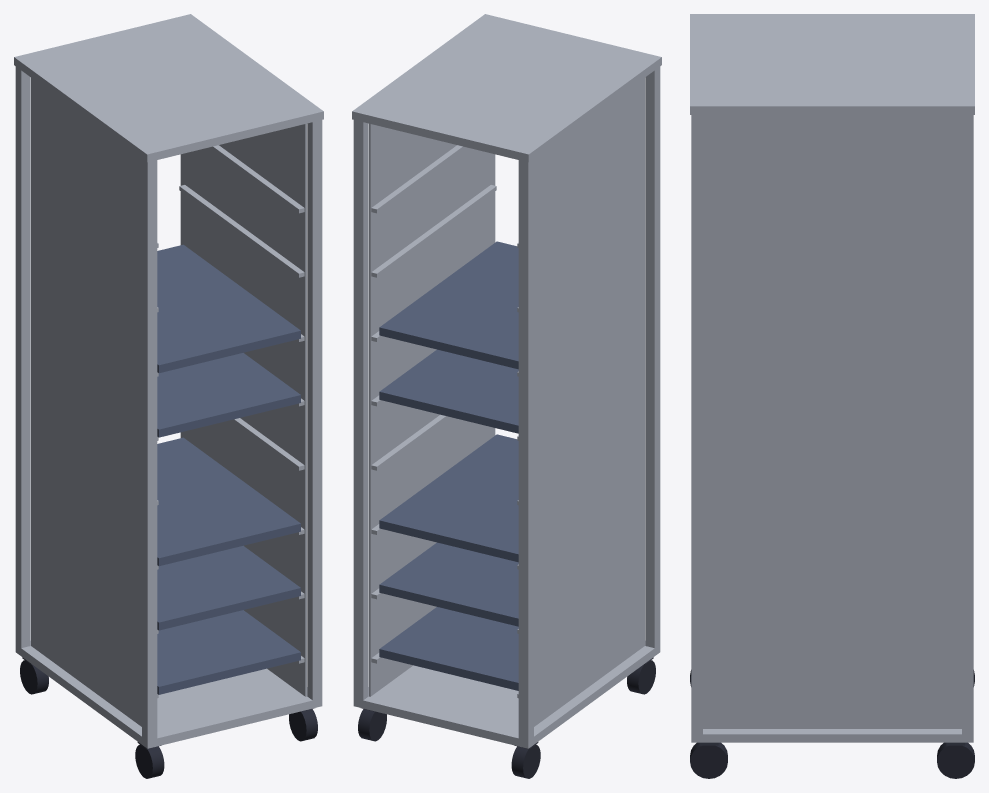
Rendered from sch-044.glb.
3 views of the same model, side by side, from view 1: azimuth 30°, elevation 25°; view 2: azimuth 150°, elevation 25°; view 3: azimuth 270°, elevation 25° (orthographic). The views are drawn at different scales.
Visible parts, largest first — view 1: steel, tray, plastic_dark; view 2: steel, tray, plastic_dark; view 3: steel, plastic_dark.
Boxes of the visible parts, x1,y1,x2,y2 form: steel: (14, 14, 323, 748); tray: (157, 244, 300, 694); plastic_dark: (20, 660, 317, 778); steel: (352, 14, 661, 748); tray: (379, 241, 518, 690); plastic_dark: (358, 660, 655, 778); steel: (690, 14, 974, 742); plastic_dark: (690, 670, 974, 778).
Bounding box in the file's own units: 0.46 × 1.57 × 0.6.
